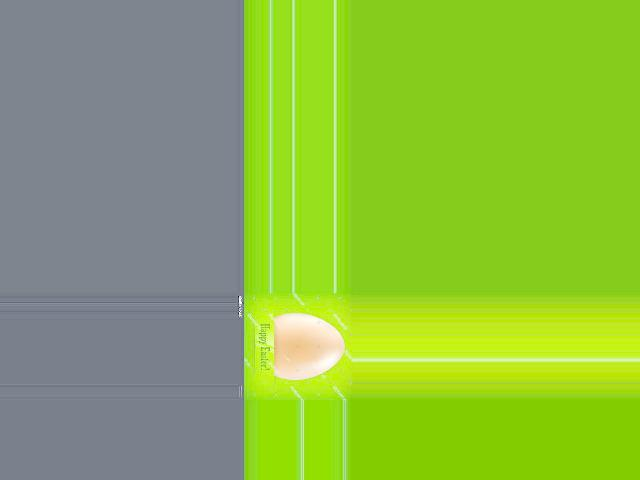egg: (274, 313, 344, 380)
